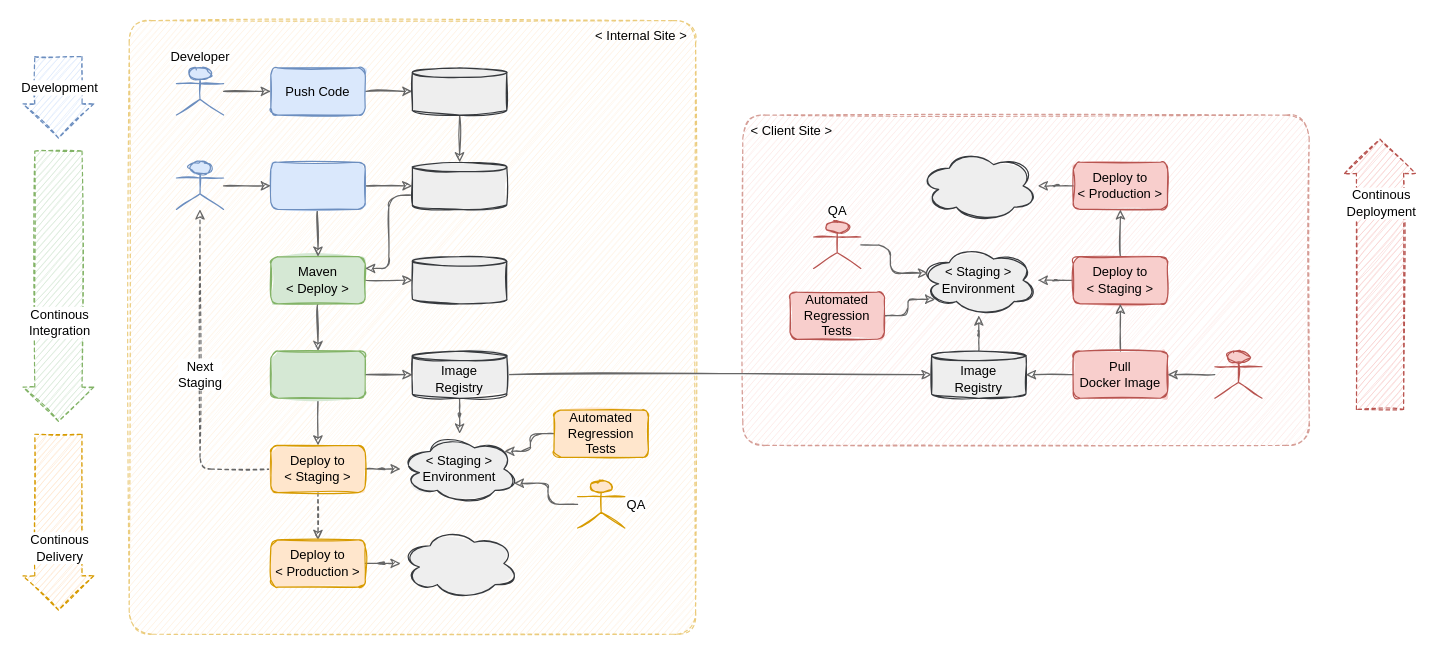
Image size: 1436x655. Some labels were removed from this diagram. Each missing label, with the centre of its shape:
"< Feature > Branch" goes at pixel 459 91.
"< Production > Environment" goes at pixel 978 185.
"< Production> Environment" goes at pixel 459 563.
"< Staging > Branch" goes at pixel 459 185.
"DevOps" goes at pixel 1238 374.
"Docker Build" goes at pixel 317 374.
"Maven Repository" goes at pixel 459 279.
"Merge Code" goes at pixel 317 185.
"Senior Developer" goes at pixel 199 185.
